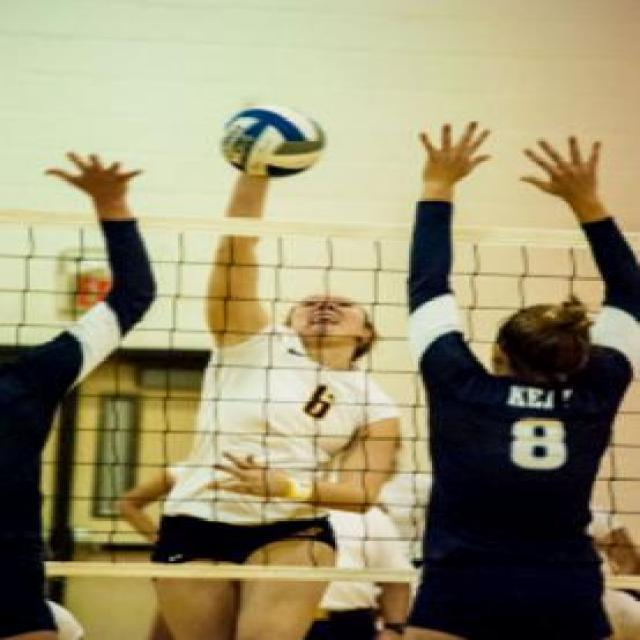volleyball: (220, 102, 326, 178)
